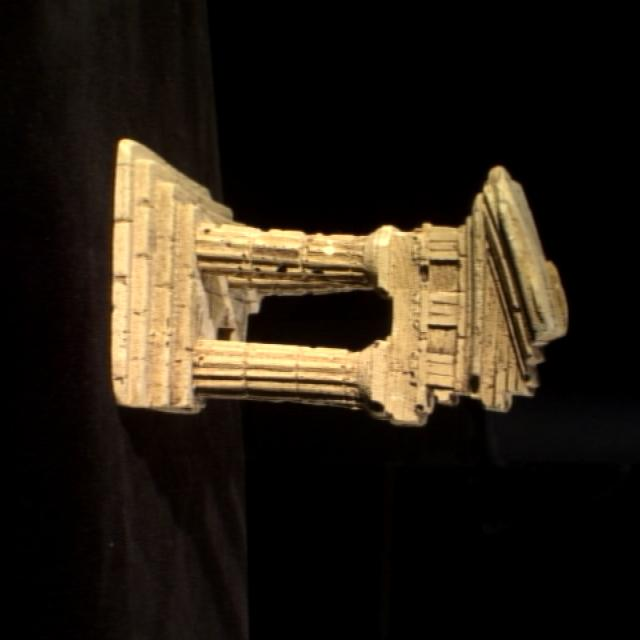Instance-Segmentation: (111, 140, 567, 425)
